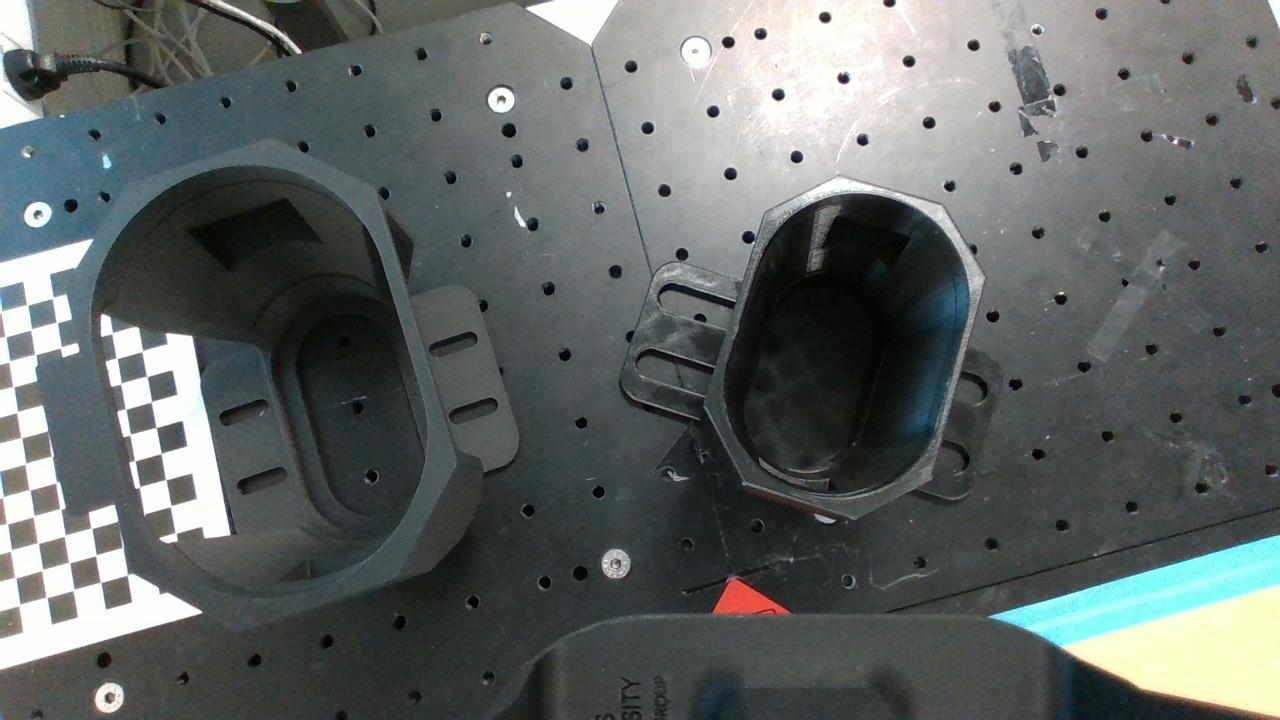big_interface: (67, 140, 457, 630)
small_interface: (703, 173, 988, 520)
